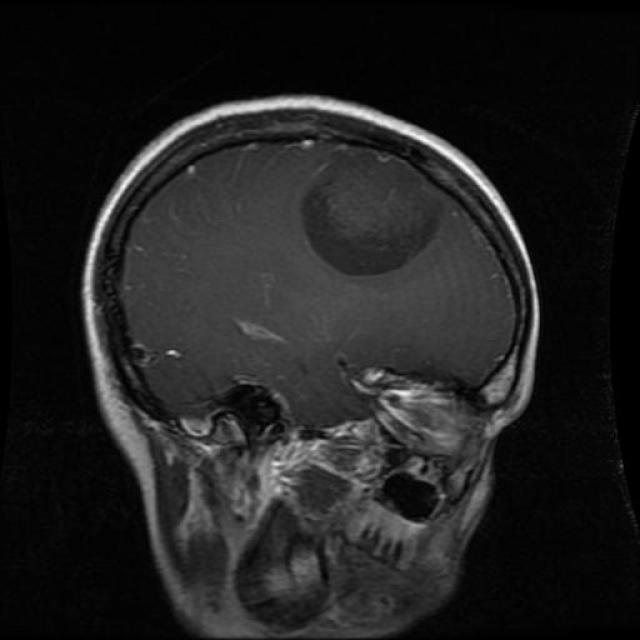glioma: (302, 144, 442, 278)
